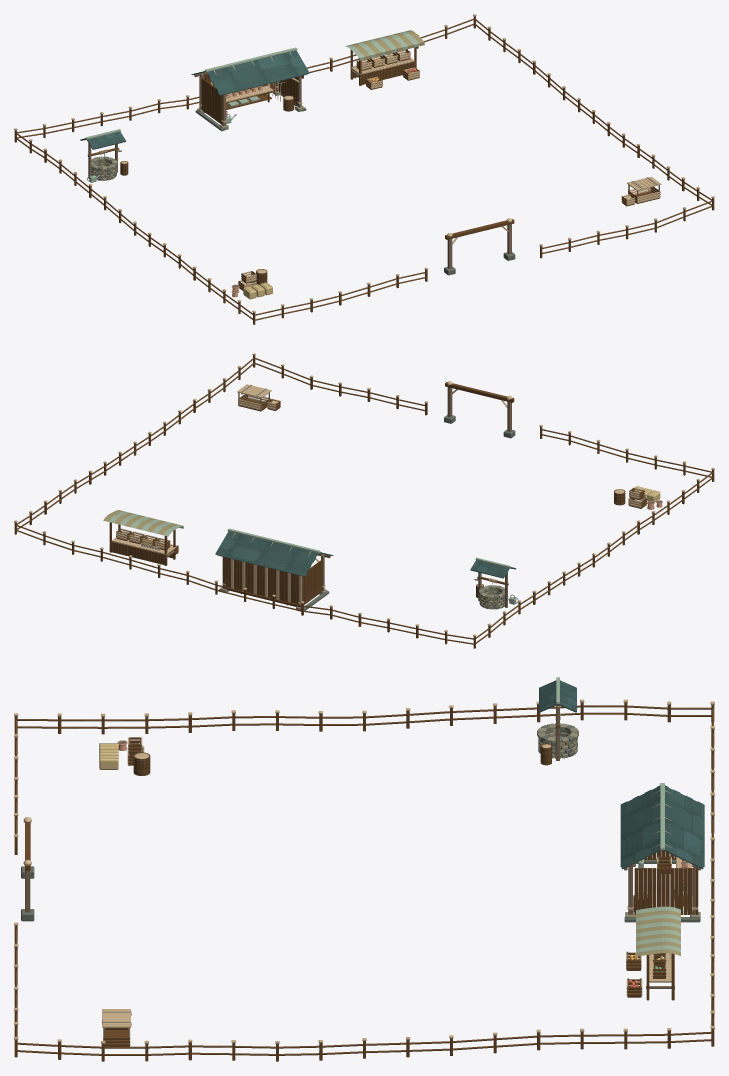
The model's file is farm-crafted.glb.
3 views of the same model, one above another, from view 1: azimuth 30°, elevation 25°; view 2: azimuth 150°, elevation 25°; view 3: azimuth 270°, elevation 25° (orthographic). The views are drawn at different scales.
Visible parts, largest first — view 1: farm-boundary-fence / weathered honey oak, farm-potting-shed / blue green roof tiles, farm-potting-shed / weathered honey oak, farm-seed-market / weathered honey oak, farm-seed-market / cut oak edge, farm-seed-market / linen canvas, farm-seed-market / sage canvas stripes, farm-potting-shed / cut oak edge, farm-shipping-chest / cut oak edge, farm-potting-shed / faded sage paint, farm-boundary-fence / cut oak edge; view 2: farm-boundary-fence / weathered honey oak, farm-potting-shed / weathered honey oak, farm-potting-shed / blue green roof tiles, farm-seed-market / weathered honey oak, farm-potting-shed / cut oak edge, farm-seed-market / cut oak edge, farm-shipping-chest / cut oak edge, farm-boundary-fence / cut oak edge, farm-seed-market / sage canvas stripes, farm-seed-market / linen canvas; view 3: farm-boundary-fence / weathered honey oak, farm-potting-shed / blue green roof tiles, farm-potting-shed / weathered honey oak, farm-seed-market / linen canvas, farm-seed-market / sage canvas stripes, farm-seed-market / weathered honey oak, farm-boundary-fence / cut oak edge, farm-stone-well / blue green roof tiles.
Boxes of the visible parts, x1,y1,x2,y2 form: farm-boundary-fence / weathered honey oak: (14,16,714,324); farm-potting-shed / blue green roof tiles: (191,50,309,95); farm-potting-shed / weathered honey oak: (201,73,297,124); farm-seed-market / weathered honey oak: (350,47,419,89); farm-seed-market / cut oak edge: (350,49,419,88); farm-seed-market / linen canvas: (350,30,424,59); farm-seed-market / sage canvas stripes: (345,31,418,60); farm-potting-shed / cut oak edge: (199,52,302,122); farm-shipping-chest / cut oak edge: (622,176,661,205); farm-potting-shed / faded sage paint: (204,47,297,123); farm-boundary-fence / cut oak edge: (14,14,714,312); farm-boundary-fence / weathered honey oak: (14,355,714,648); farm-potting-shed / weathered honey oak: (222,557,322,607); farm-potting-shed / blue green roof tiles: (215,531,333,576); farm-seed-market / weathered honey oak: (109,522,178,565); farm-potting-shed / cut oak edge: (222,533,325,606); farm-seed-market / cut oak edge: (111,528,176,554); farm-shipping-chest / cut oak edge: (237,384,280,410); farm-boundary-fence / cut oak edge: (14,353,714,636); farm-seed-market / sage canvas stripes: (108,511,183,536); farm-seed-market / linen canvas: (103,510,177,534); farm-boundary-fence / weathered honey oak: (14,702,714,1061); farm-potting-shed / blue green roof tiles: (620,785,704,869); farm-potting-shed / weathered honey oak: (633,850,698,914); farm-seed-market / linen canvas: (636,910,680,961); farm-seed-market / sage canvas stripes: (636,906,680,952); farm-seed-market / weathered honey oak: (626,952,674,1000); farm-boundary-fence / cut oak edge: (14,699,714,1043); farm-stone-well / blue green roof tiles: (539,680,576,712).
Bounding box in the file's own units: 40.21 × 4.68 × 36.22.
21 materials, 7 textured.
